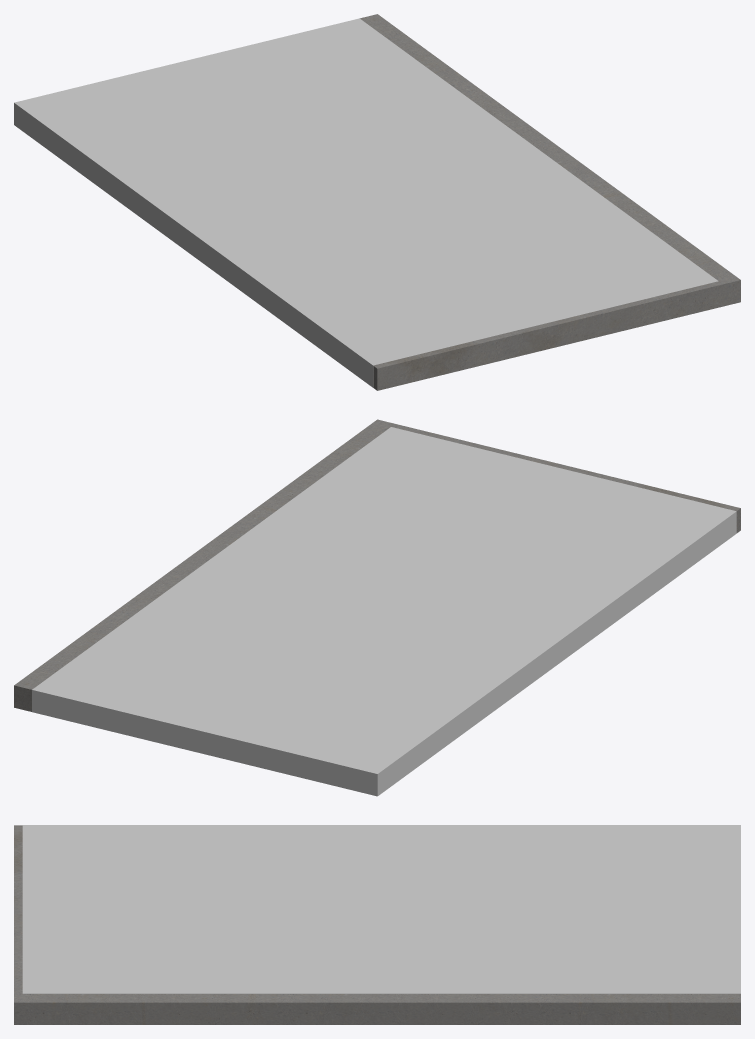
Rendered from SM_DG_Stereobate02C.fbx.
The picture shows the model from 3 angles, top to bottom: view 1: azimuth 30°, elevation 25°; view 2: azimuth 150°, elevation 25°; view 3: azimuth 270°, elevation 25°; orthographic projection.
Visible parts, largest first — view 1: SM_DG_Stereobate02C_ConvexHulls, SM_DG_Stereobate02C; view 2: SM_DG_Stereobate02C_ConvexHulls, SM_DG_Stereobate02C; view 3: SM_DG_Stereobate02C_ConvexHulls, SM_DG_Stereobate02C.
Part boxes in pixels (left/top/right/bottom): SM_DG_Stereobate02C_ConvexHulls: left=14, top=18, right=718, bottom=387; SM_DG_Stereobate02C: left=360, top=14, right=740, bottom=390; SM_DG_Stereobate02C_ConvexHulls: left=32, top=427, right=736, bottom=796; SM_DG_Stereobate02C: left=14, top=419, right=740, bottom=711; SM_DG_Stereobate02C_ConvexHulls: left=22, top=825, right=740, bottom=993; SM_DG_Stereobate02C: left=14, top=825, right=740, bottom=1024.
Size of the model in its own units: 684 by 1184 by 40.25.
Materials: 2 (1 with a texture image).
